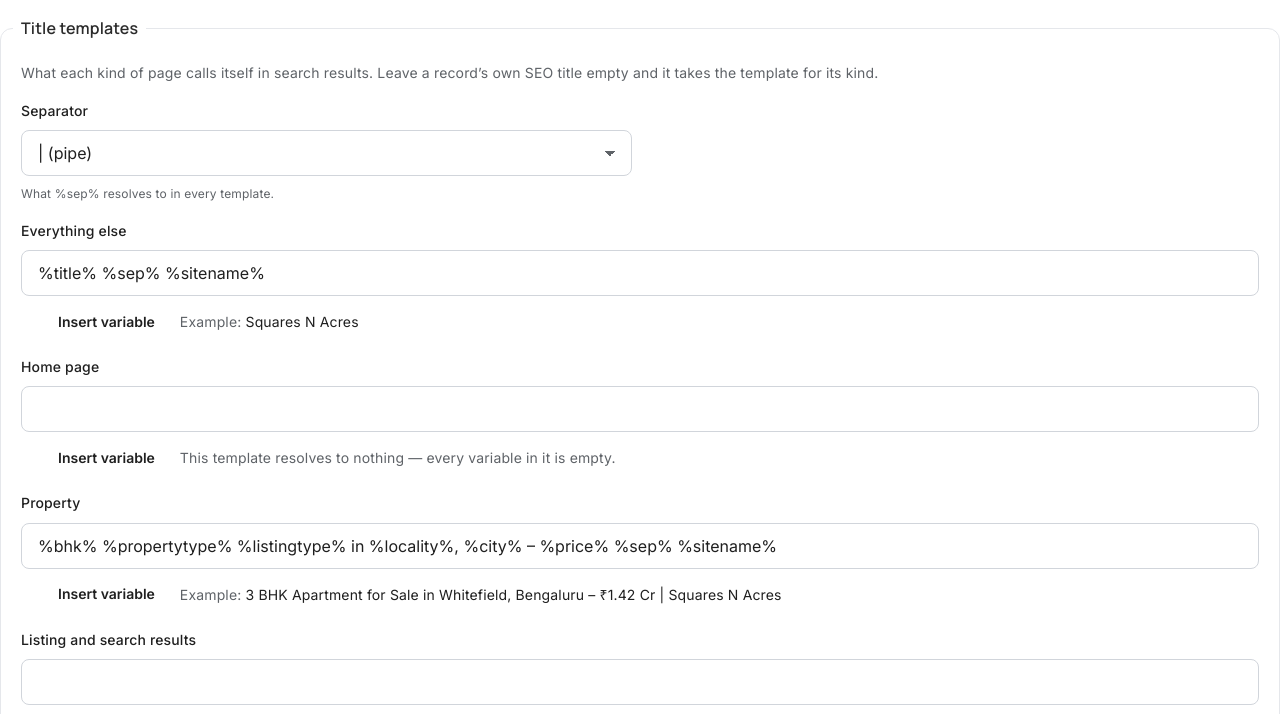
Test: the property title template › follows the separator while it is being changed
Expected: the text "3 BHK Apartment for Sale in Whitefield" is shown, x1=246 y1=586 x2=782 y2=602
Select "– (en dash)" in the dropdown labelled "Separator": (326,153) x1=21 y1=130 x2=632 y2=176
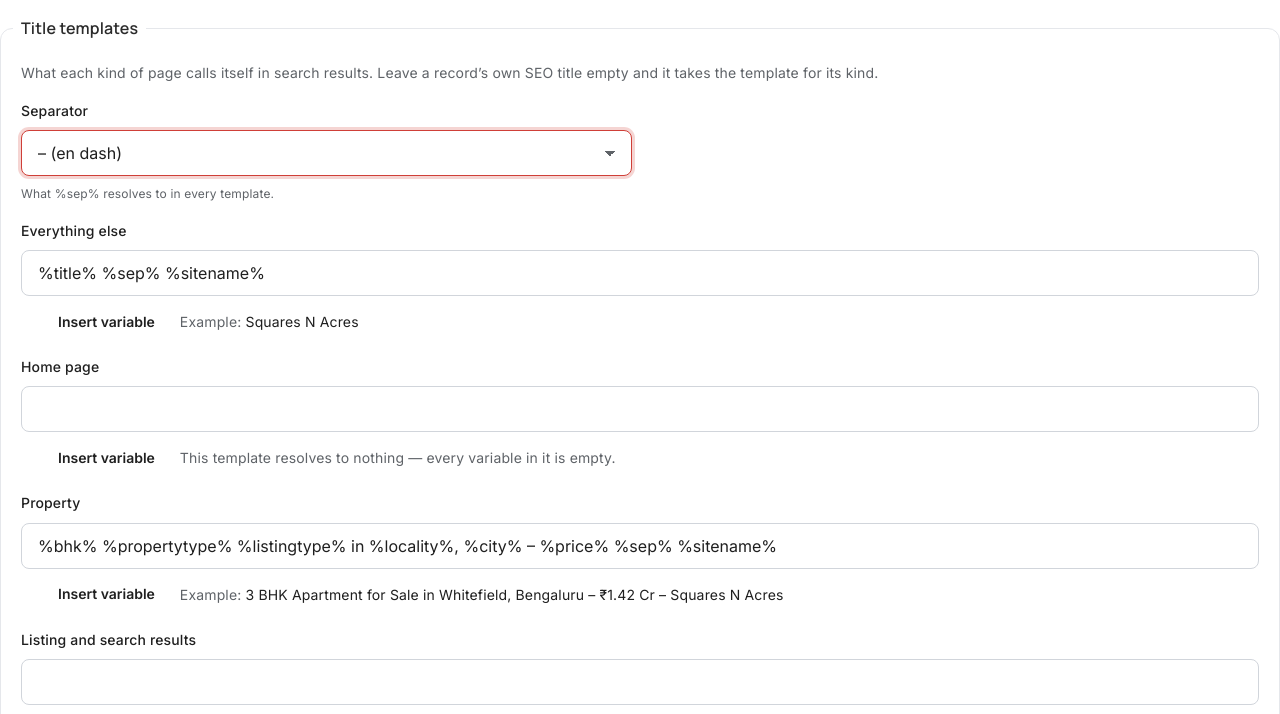
Expected: the text "Whitefield, Bengaluru – ₹1.42 Cr – Squares N Acres" is shown, x1=246 y1=586 x2=784 y2=602
